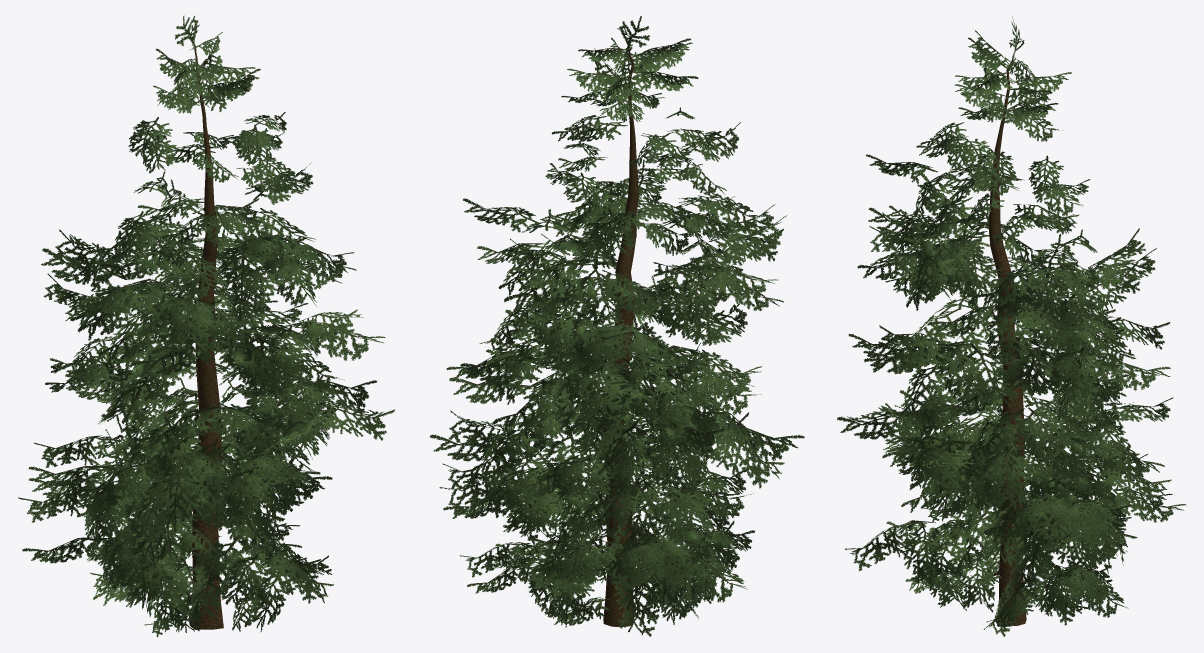
File: fir1_l2.glb
3 renders of one model, left to right at view 1: azimuth 30°, elevation 25°; view 2: azimuth 150°, elevation 25°; view 3: azimuth 270°, elevation 25°, orthographic. The views are drawn at different scales.
Parts seen in each view (by area): view 1: Christmas tree_LOD2_Brunches_Mat_0, Christmas tree_LOD2_Bark_Mat_0; view 2: Christmas tree_LOD2_Brunches_Mat_0, Christmas tree_LOD2_Bark_Mat_0; view 3: Christmas tree_LOD2_Brunches_Mat_0, Christmas tree_LOD2_Bark_Mat_0.
Part boxes in pixels (x1,y1,x2,y2): Christmas tree_LOD2_Brunches_Mat_0: [18, 15, 395, 637]; Christmas tree_LOD2_Bark_Mat_0: [190, 47, 223, 629]; Christmas tree_LOD2_Brunches_Mat_0: [430, 16, 804, 636]; Christmas tree_LOD2_Bark_Mat_0: [602, 48, 649, 627]; Christmas tree_LOD2_Brunches_Mat_0: [837, 16, 1185, 636]; Christmas tree_LOD2_Bark_Mat_0: [970, 55, 1026, 626].
Bounding box in the file's own units: 13.52 × 24.08 × 13.
2 materials, 2 textured.
